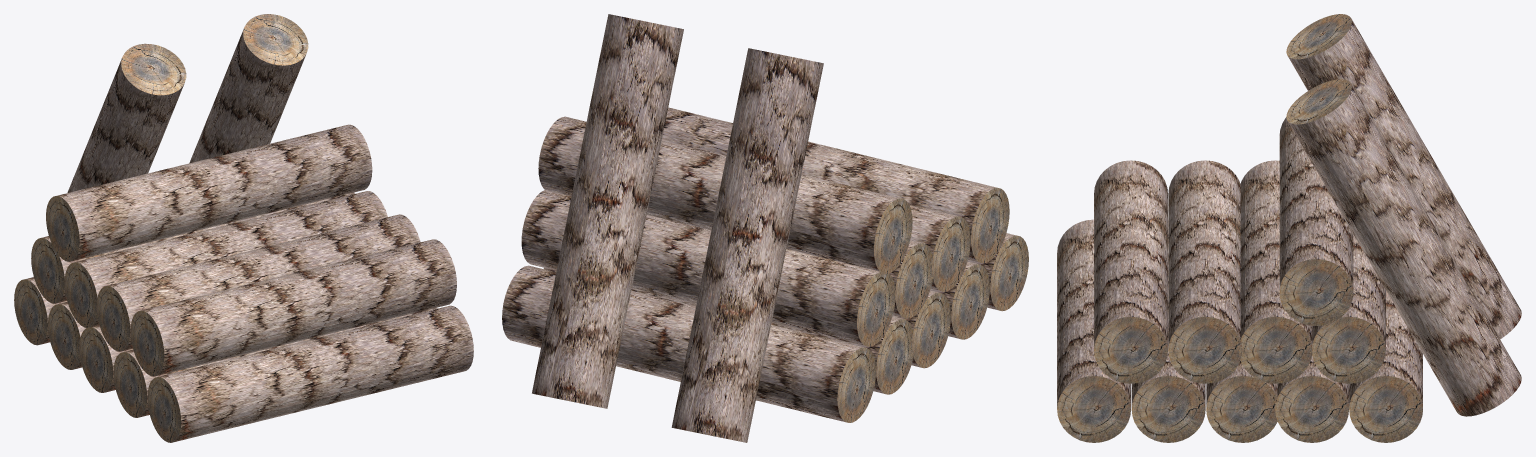
File: conjunto de troncos metade.fbx
3 renders of one model, left to right at view 1: azimuth 30°, elevation 25°; view 2: azimuth 150°, elevation 25°; view 3: azimuth 270°, elevation 25°, orthographic. The views are drawn at different scales.
Parts seen in each view (by area): view 1: Cilindro.004, Cilindro.005, Cilindro.012, Cilindro.006, Cilindro.007, Cilindro.011, Cilindro.010, Cilindro.008, Cilindro.003, Cilindro.002, Cilindro.009, Cilindro.001; view 2: Cilindro.011, Cilindro.010, Cilindro.009, Cilindro.012, Cilindro.008, Cilindro.005, Cilindro.006, Cilindro.001, Cilindro.003, Cilindro.004, Cilindro.007, Cilindro.002; view 3: Cilindro.010, Cilindro.005, Cilindro.006, Cilindro.011, Cilindro.012, Cilindro.007, Cilindro.004, Cilindro.009, Cilindro.008, Cilindro.003, Cilindro.001, Cilindro.002.
Part boxes in pixels (x1,y1,x2,y2): Cilindro.004: (147,305,473,442); Cilindro.005: (130,239,456,376); Cilindro.012: (46,124,372,261); Cilindro.006: (96,214,420,351); Cilindro.007: (64,191,387,327); Cilindro.011: (67,43,186,192); Cilindro.010: (189,14,308,163); Cilindro.008: (31,192,354,303); Cilindro.003: (113,307,437,417); Cilindro.002: (79,325,133,392); Cilindro.009: (14,277,67,345); Cilindro.001: (48,302,85,369); Cilindro.011: (671,48,823,442); Cilindro.010: (532,14,683,408); Cilindro.009: (502,265,875,422); Cilindro.012: (538,116,912,273); Cilindro.008: (521,190,895,346); Cilindro.005: (662,107,1009,263); Cilindro.006: (909,204,970,291); Cilindro.001: (543,267,914,394); Cilindro.003: (930,261,989,339); Cilindro.004: (967,233,1028,311); Cilindro.007: (889,240,932,318); Cilindro.002: (892,290,950,368); Cilindro.010: (1286,79,1521,416); Cilindro.005: (1094,160,1167,383); Cilindro.006: (1168,160,1242,383); Cilindro.011: (1286,14,1521,339); Cilindro.012: (1279,117,1353,325); Cilindro.007: (1238,160,1312,383); Cilindro.004: (1057,219,1130,442); Cilindro.009: (1349,291,1422,442); Cilindro.008: (1312,234,1385,383); Cilindro.003: (1131,220,1205,442); Cilindro.001: (1275,355,1348,442); Cilindro.002: (1206,360,1280,442).
Bounding box in the file's own units: 1000 × 980 × 1256.
